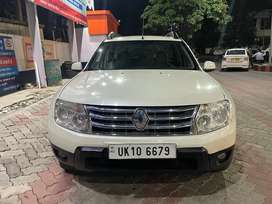UK106679: (108, 144, 176, 158)
